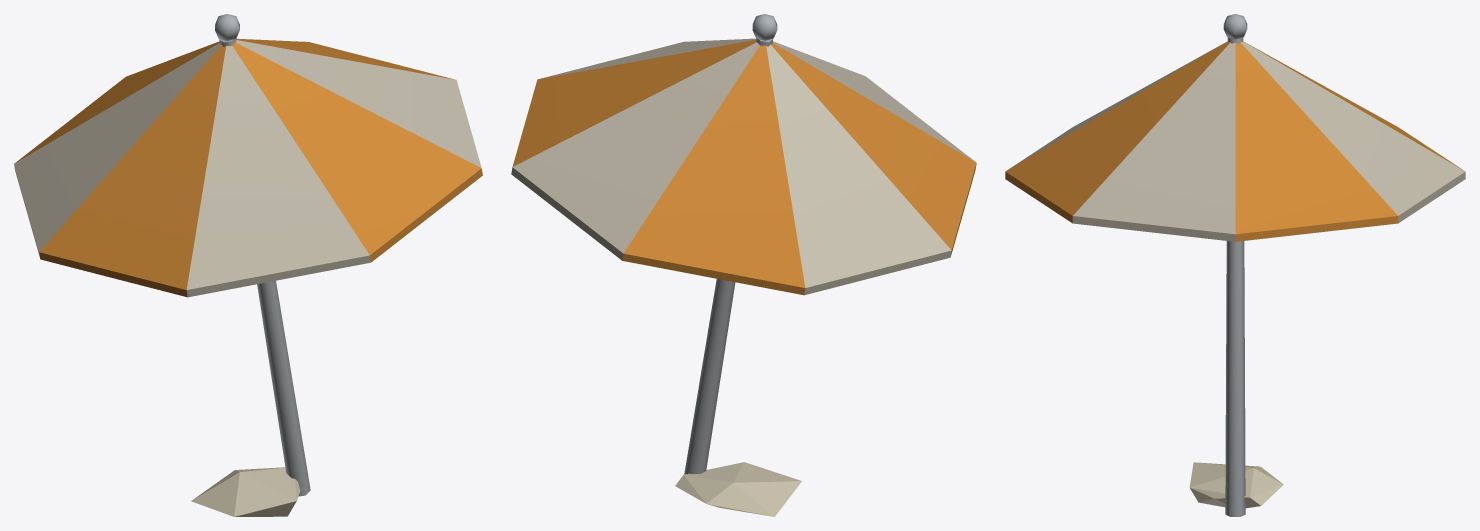
The model's file is beach_umbrella.glb.
The picture shows the model from 3 angles, left to right: view 1: azimuth 30°, elevation 25°; view 2: azimuth 150°, elevation 25°; view 3: azimuth 270°, elevation 25°; orthographic projection. The views are drawn at different scales.
Visible parts, largest first — view 1: beach_umbrella; view 2: beach_umbrella; view 3: beach_umbrella.
Boxes of the visible parts, bbox=[...] form: beach_umbrella: bbox=[14, 14, 482, 516]; beach_umbrella: bbox=[511, 14, 976, 516]; beach_umbrella: bbox=[1005, 14, 1465, 516].
Size of the model in its own units: 2.02 by 2.31 by 2.04.
